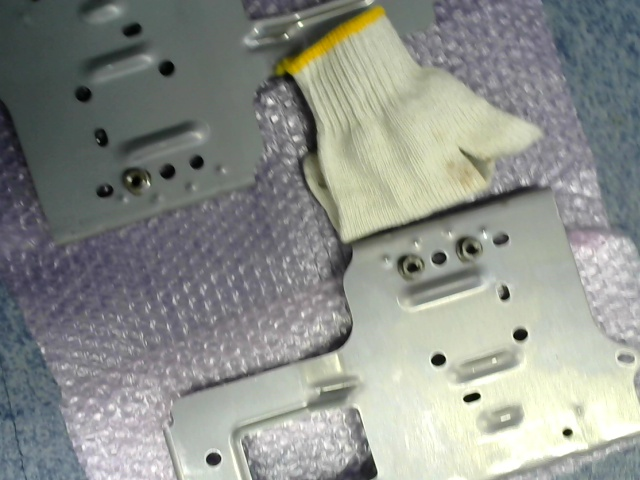dog: (121, 167, 150, 197), (397, 254, 425, 282), (456, 237, 485, 264)
